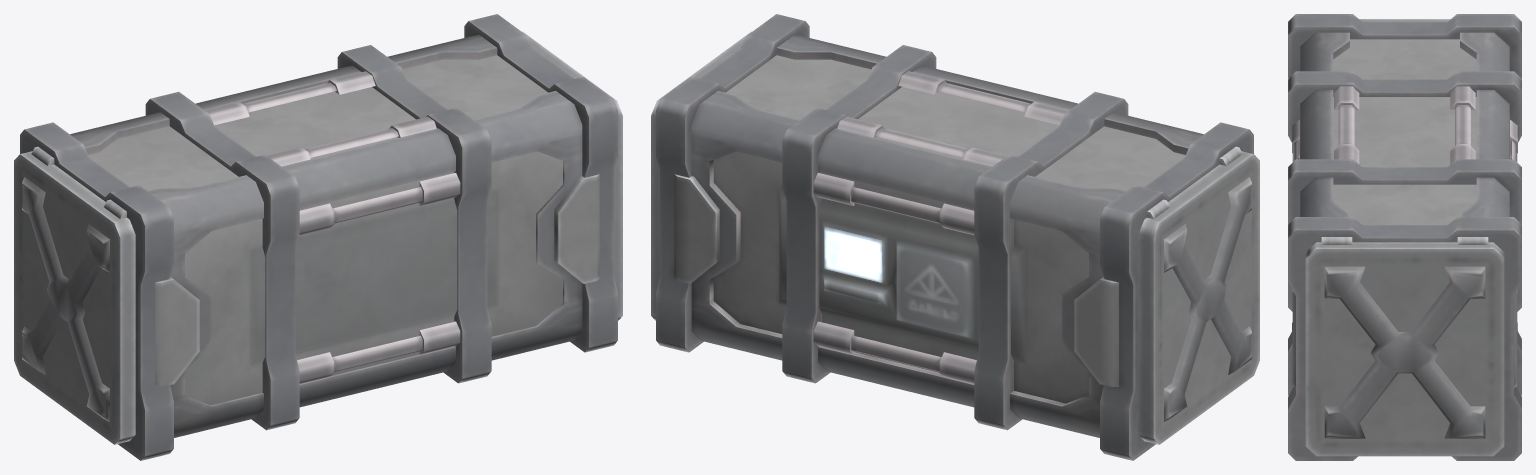
File: Pfb_Soda_Container.fbx
The picture shows the model from 3 angles, left to right: view 1: azimuth 30°, elevation 25°; view 2: azimuth 150°, elevation 25°; view 3: azimuth 270°, elevation 25°; orthographic projection. The views are drawn at different scales.
Visible parts, largest first — view 1: MAT_Soda_Container_Grey; view 2: MAT_Soda_Container_Grey; view 3: MAT_Soda_Container_Grey.
Boxes of the visible parts, x1=… form: MAT_Soda_Container_Grey: x1=14, y1=14, x2=622, y2=460; MAT_Soda_Container_Grey: x1=651, y1=14, x2=1259, y2=460; MAT_Soda_Container_Grey: x1=1288, y1=14, x2=1521, y2=460.
Bounding box in the file's own units: 5.13 × 2.36 × 2.17.
1 material, 1 textured.
